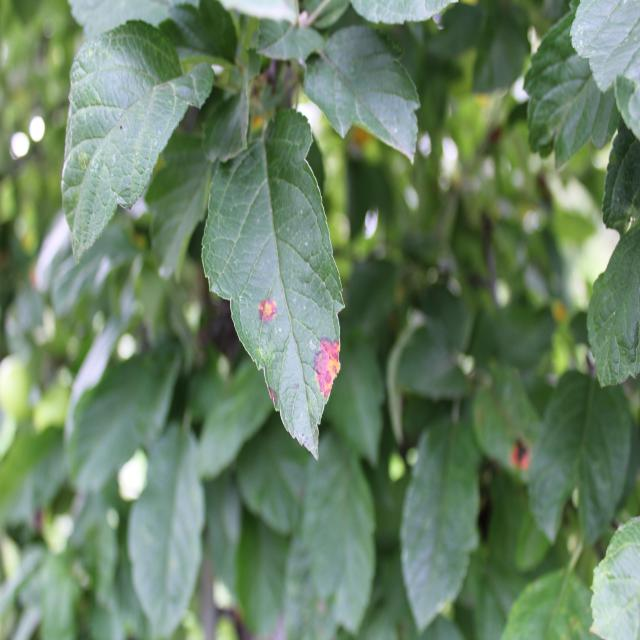rust: (200, 107, 344, 463)
